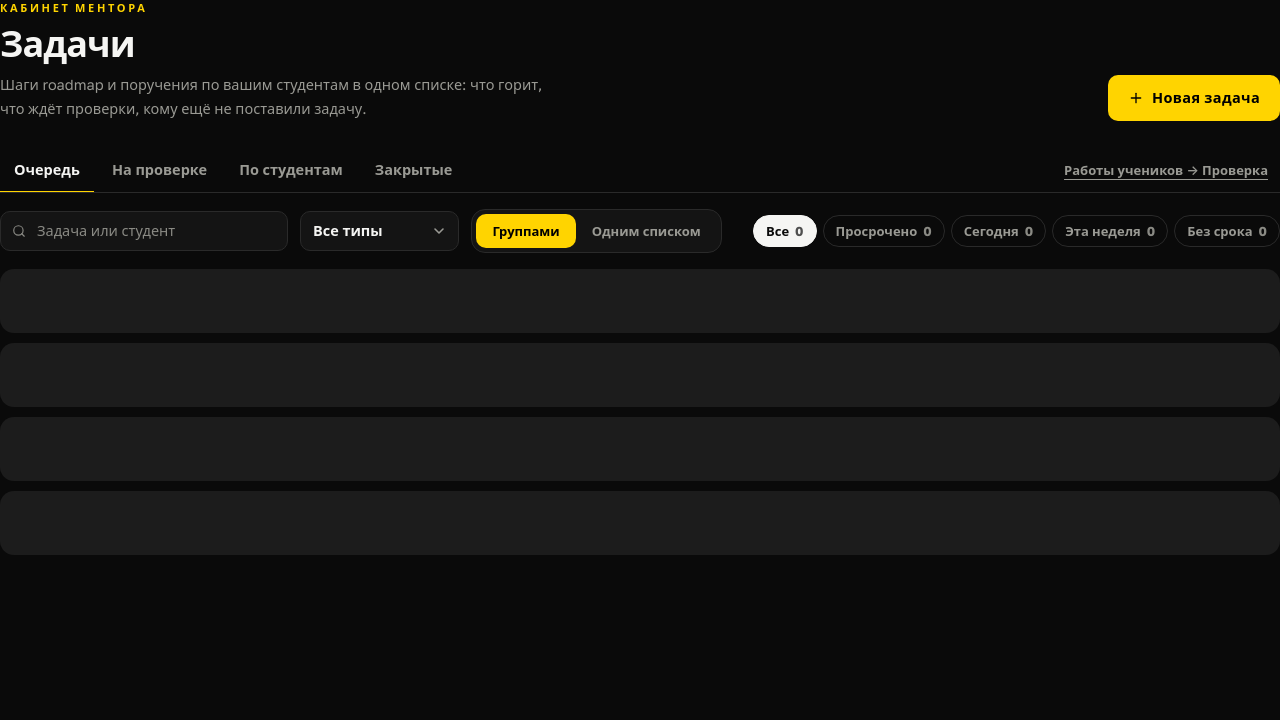
Test case: WorkspaceTasksPage: кнопка «Новая задача» › «Задача» у студента без задач открывает диалог с этим студентом
Click the tab "По студентам" at x=291, y=170, box [225,148,357,192]
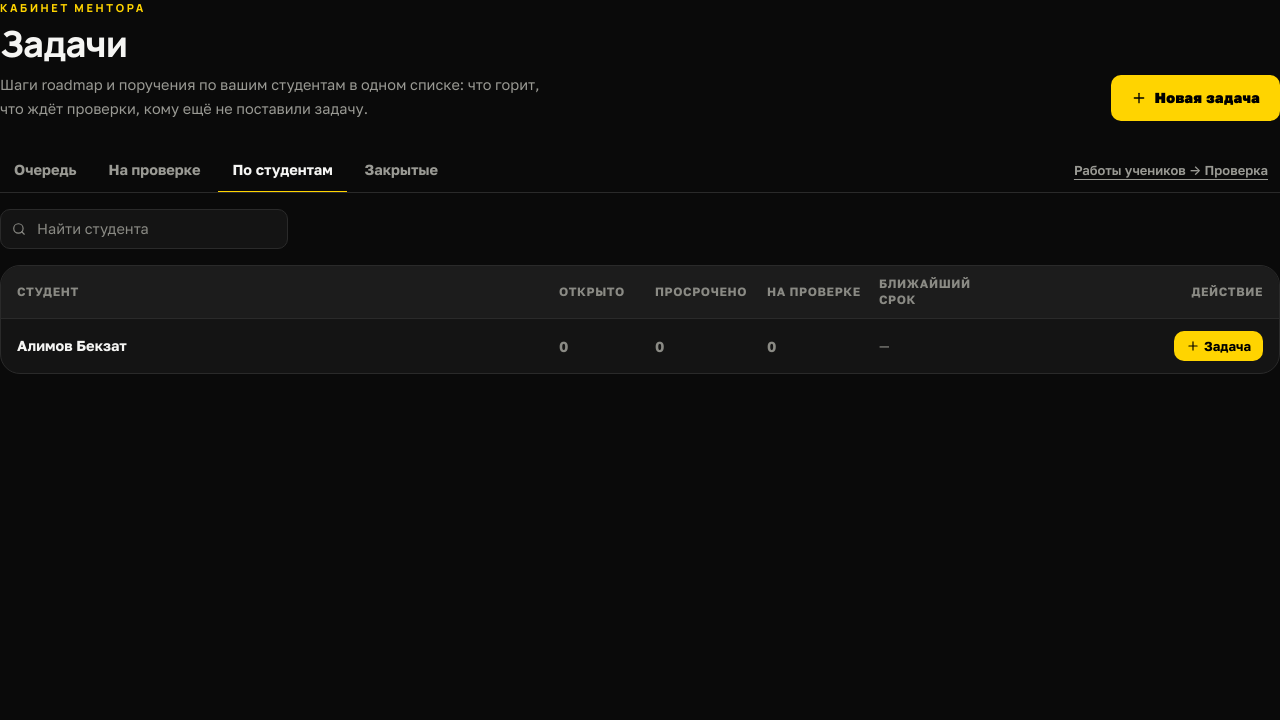
Click the button with aria-label "Поставить задачу: Алимов Бекзат" at x=1218, y=346, box [1174,330,1263,360]
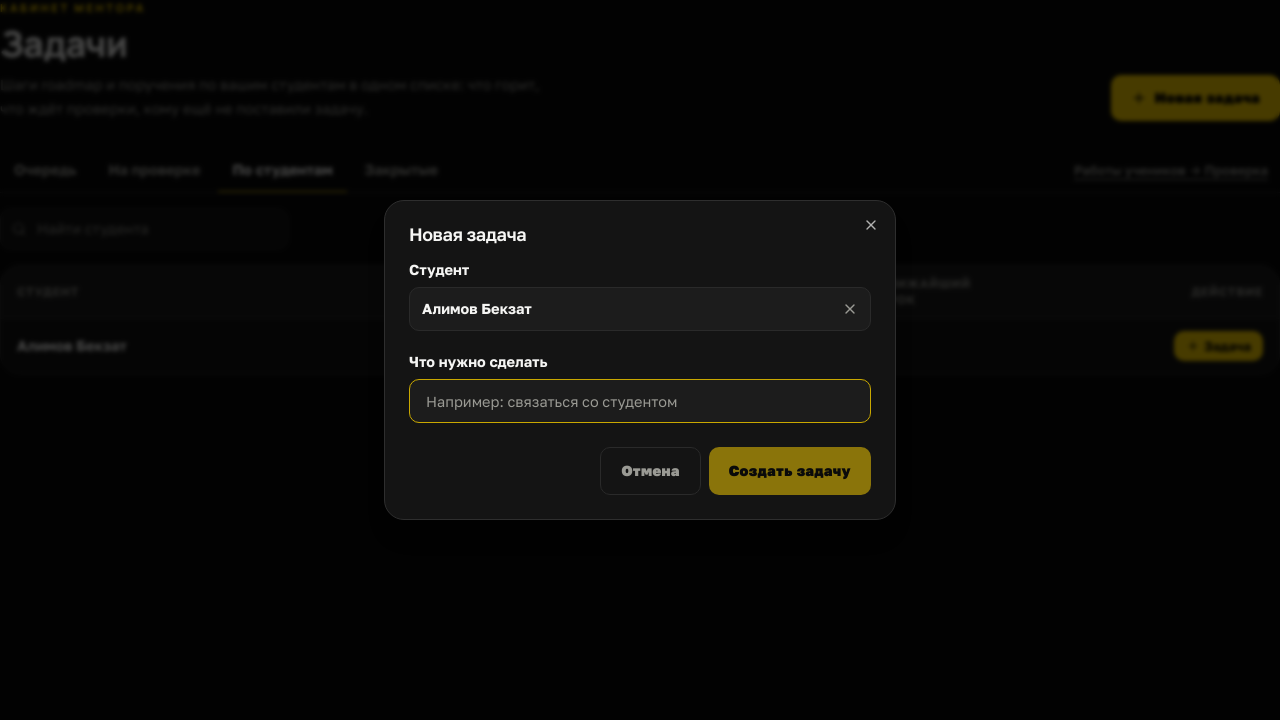
Expected: the heading "Новая задача" is shown, [409,223,526,245]
Expected: the button named "Убрать студента" is shown, [842,301,858,317]
